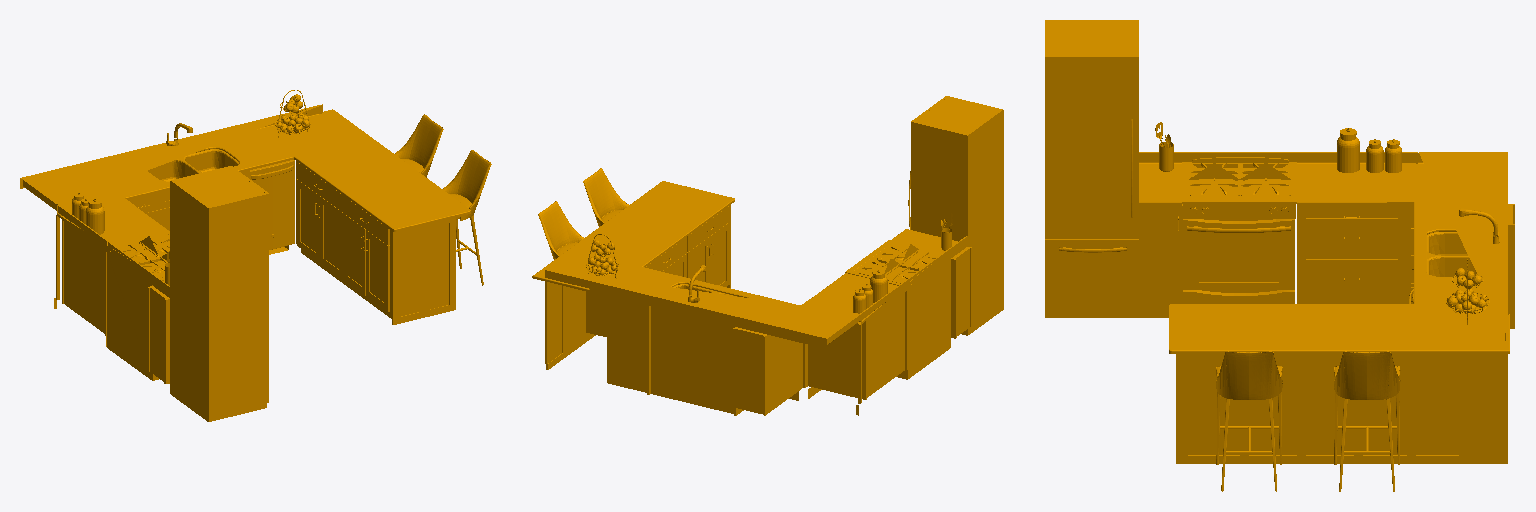
URDF robot description (kitchen):
<?xml version="1.0"?>
<robot name="kitchen">
	<link name="base">
        <inertial>
        	<origin xyz="0 0 0" rpy="0 0 0"/>
        	<mass value="0.05"/>
            <inertia ixx="0.000683333"  ixy="0"  ixz="0" iyy="0.000683333" iyz="0" izz="0.000683333" />
        </inertial>
        <visual>
            <!--origin xyz="0.001 0.00288 -0.013" rpy="0 0 0" /-->
            <origin xyz="0.0 0.0 0.0" rpy="0 0 0" />
            <geometry>
                <mesh filename="kitchen_simple/kitchen_simple.dae" scale="0.0254 0.0254 0.0254"/>
            </geometry>
            <!--
            <material>
                <color rgba="1 0 0 1" />
            </material>
            -->
        </visual>
        <collision>
            <geometry>
                <mesh filename="kitchen_simple/kitchen_simple.dae" scale="0.0254 0.0254 0.0254"/>
            </geometry>
            <material>
                <color rgba="1 0 0 1" />
            </material>
        </collision>
	</link>
</robot>

--- Facts derived from the render (not from the file) ---
3 views of the same robot in one strip: view 1: azimuth 30°, elevation 25°; view 2: azimuth 150°, elevation 25°; view 3: azimuth 270°, elevation 25° (orthographic).
Model kitchen with 1 links and 0 joints (none), rooted at base, posed every joint at zero.
Visible links, largest first — view 1: base; view 2: base; view 3: base.
Boxes of the visible links, x1,y1,x2,y2 form: base: [20, 90, 491, 421]; base: [532, 96, 1003, 415]; base: [1045, 20, 1514, 491].
Size in the robot's own frame: 3.47 by 3.17 by 1.96 metres.
1 mesh visuals loaded from 1 distinct referenced files (1 Collada DAE).